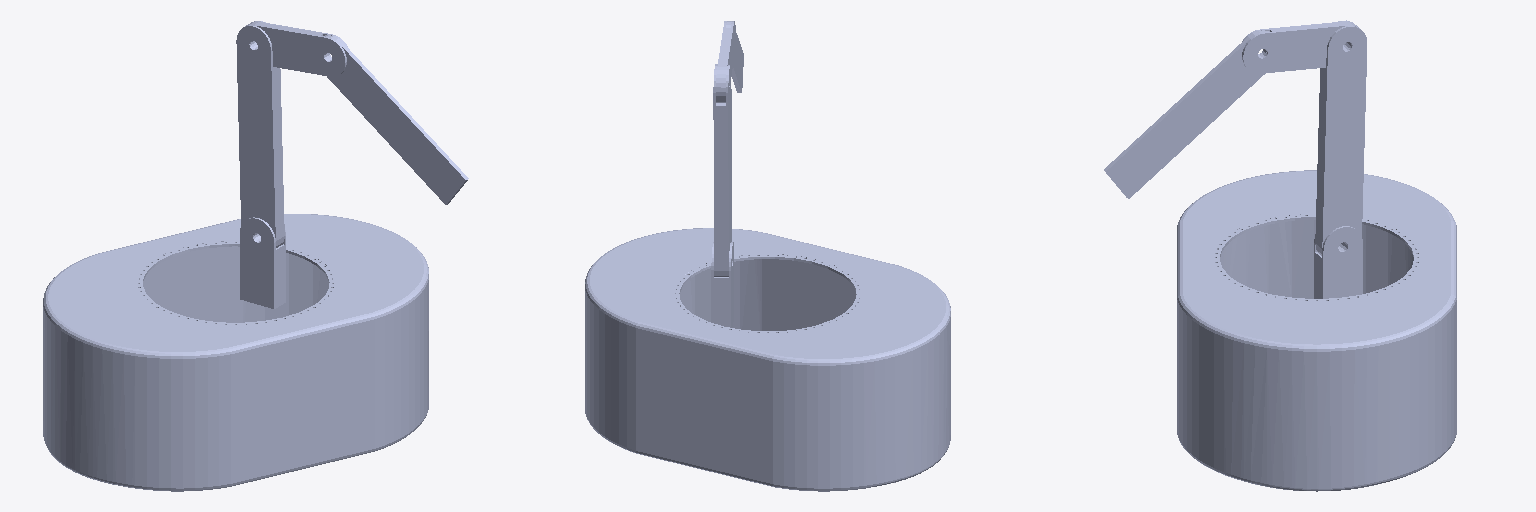
URDF robot description (fouraxisrobot_kine):
<?xml version="1.0" encoding="utf-8"?>
<robot
  name="fouraxisrobot_kine">
  <link
    name="base_link">
    <inertial>
      <origin
        xyz="2.7802E-36 0.012867 1.1428E-18"
        rpy="0 0 0" />
      <mass
        value="0.23562" />
      <inertia
        ixx="0.00017569"
        ixy="6.7763E-21"
        ixz="2.7105E-20"
        iyy="0.00031802"
        iyz="5.9354E-21"
        izz="0.00017569" />
    </inertial>
    <visual>
      <origin
        xyz="0 0 0"
        rpy="0 0 0" />
      <geometry>
        <mesh
          filename="package://cpp06_urdf/meshes/base_link.STL" />
      </geometry>
      <material
        name="">
        <color
          rgba="0.79216 0.81961 0.93333 1" />
      </material>
    </visual>
    <collision>
      <origin
        xyz="0 0 0"
        rpy="0 0 0" />
      <geometry>
        <mesh
          filename="package://cpp06_urdf/meshes/base_link.STL" />
      </geometry>
    </collision>
  </link>
  <link
    name="link1">
    <inertial>
      <origin
        xyz="0.065125 2.0116E-17 -2.2224E-17"
        rpy="0 0 0" />
      <mass
        value="0.39015" />
      <inertia
        ixx="0.00027739"
        ixy="8.0815E-20"
        ixz="8.0388E-20"
        iyy="0.00072264"
        iyz="2.7105E-20"
        izz="0.00087866" />
    </inertial>
    <visual>
      <origin
        xyz="0 0 0"
        rpy="0 0 0" />
      <geometry>
        <mesh
          filename="package://cpp06_urdf/meshes/link1.STL" />
      </geometry>
      <material
        name="">
        <color
          rgba="0.79216 0.81961 0.93333 1" />
      </material>
    </visual>
    <collision>
      <origin
        xyz="0 0 0"
        rpy="0 0 0" />
      <geometry>
        <mesh
          filename="package://cpp06_urdf/meshes/link1.STL" />
      </geometry>
    </collision>
  </link>
  <joint
    name="joint1"
    type="revolute">
    <origin
      xyz="0 0 0.03"
      rpy="0.4441 -1.5708 0" />
    <parent
      link="base_link" />
    <child
      link="link1" />
    <axis
      xyz="-1 0 0" />
    <limit
      lower="-3.14"
      upper="3.14"
      effort="100"
      velocity="1" />
  </joint>
  <link
    name="link2">
    <inertial>
      <origin
        xyz="0.18014 6.6787E-17 -1.5727E-16"
        rpy="0 0 0" />
      <mass
        value="0.99282" />
      <inertia
        ixx="0.00060396"
        ixy="-6.6331E-18"
        ixz="-1.6839E-18"
        iyy="0.014885"
        iyz="8.6736E-19"
        izz="0.015332" />
    </inertial>
    <visual>
      <origin
        xyz="0 0 0"
        rpy="0 0 0" />
      <geometry>
        <mesh
          filename="package://cpp06_urdf/meshes/link2.STL" />
      </geometry>
      <material
        name="">
        <color
          rgba="0.79216 0.81961 0.93333 1" />
      </material>
    </visual>
    <collision>
      <origin
        xyz="0 0 0"
        rpy="0 0 0" />
      <geometry>
        <mesh
          filename="package://cpp06_urdf/meshes/link2.STL" />
      </geometry>
    </collision>
  </link>
  <joint
    name="joint2"
    type="revolute">
    <origin
      xyz="0.14 0 0"
      rpy="-3.1416 0 0.02851" />
    <parent
      link="link1" />
    <child
      link="link2" />
    <axis
      xyz="0 0 -1" />
    <limit
      lower="-3.14"
      upper="3.14"
      effort="100"
      velocity="1" />
  </joint>
  <link
    name="link3">
    <inertial>
      <origin
        xyz="0.0720662695405814 -1.11022302462516E-16 3.85108611666851E-16"
        rpy="0 0 0" />
      <mass
        value="0.312359863114213" />
      <inertia
        ixx="0.000175816316923738"
        ixy="6.4205097401876E-19"
        ixz="2.03287907341032E-19"
        iyy="0.00121702131601706"
        iyz="-2.03287907341032E-20"
        izz="0.0013696334055072" />
    </inertial>
    <visual>
      <origin
        xyz="0 0 0"
        rpy="0 0 0" />
      <geometry>
        <mesh
          filename="package://cpp06_urdf/meshes/link3.STL" />
      </geometry>
      <material
        name="">
        <color
          rgba="0.792156862745098 0.819607843137255 0.933333333333333 1" />
      </material>
    </visual>
    <collision>
      <origin
        xyz="0 0 0"
        rpy="0 0 0" />
      <geometry>
        <mesh
          filename="package://cpp06_urdf/meshes/link3.STL" />
      </geometry>
    </collision>
  </link>
  <joint
    name="joint3"
    type="revolute">
    <origin
      xyz="0.4 0 0"
      rpy="0 0 1.494" />
    <parent
      link="link2" />
    <child
      link="link3" />
    <axis
      xyz="0 0 -1" />
    <limit
      lower="-3.14"
      upper="3.14"
      effort="100"
      velocity="1" />
  </joint>
  <link
    name="link4">
    <inertial>
      <origin
        xyz="-0.165854197997763 0 2.77555756156289E-16"
        rpy="0 0 0" />
      <mass
        value="0.309991148575129" />
      <inertia
        ixx="0.000166157816246607"
        ixy="1.09097843606354E-18"
        ixz="-2.57498015965307E-18"
        iyy="0.00392704064985496"
        iyz="5.42101086242752E-20"
        izz="0.00408803194695865" />
    </inertial>
    <visual>
      <origin
        xyz="0 0 0"
        rpy="0 0 0" />
      <geometry>
        <mesh
          filename="package://cpp06_urdf/meshes/link4.STL" />
      </geometry>
      <material
        name="">
        <color
          rgba="0.792156862745098 0.819607843137255 0.933333333333333 1" />
      </material>
    </visual>
    <collision>
      <origin
        xyz="0 0 0"
        rpy="0 0 0" />
      <geometry>
        <mesh
          filename="package://cpp06_urdf/meshes/link4.STL" />
      </geometry>
    </collision>
  </link>
  <joint
    name="joint4"
    type="revolute">
    <origin
      xyz="0.17 0 0"
      rpy="0 0 -2.4139" />
    <parent
      link="link3" />
    <child
      link="link4" />
    <axis
      xyz="0 0 -1" />
    <limit
      lower="-3.14"
      upper="3.14"
      effort="100"
      velocity="1" />
  </joint>
</robot>

--- Facts derived from the render (not from the file) ---
3 views of the same robot in one strip: view 1: azimuth 30°, elevation 25°; view 2: azimuth 150°, elevation 25°; view 3: azimuth 270°, elevation 25° (orthographic).
Robot: fouraxisrobot_kine — 5 links, 4 joints (4 revolute); root link base_link; default pose: every joint at zero.
Visible links, largest first — view 1: base_link, link2, link4, link1, link3; view 2: base_link, link2, link1, link3; view 3: base_link, link2, link4, link3, link1.
Link boxes in pixels (bbox=[...]): base_link: bbox=[43, 214, 428, 491]; link2: bbox=[236, 21, 284, 247]; link4: bbox=[325, 35, 468, 204]; link1: bbox=[240, 217, 285, 308]; link3: bbox=[246, 21, 347, 76]; base_link: bbox=[585, 228, 950, 491]; link2: bbox=[713, 64, 731, 276]; link1: bbox=[711, 242, 733, 327]; link3: bbox=[716, 21, 735, 102]; base_link: bbox=[1177, 170, 1456, 491]; link2: bbox=[1315, 20, 1366, 255]; link4: bbox=[1104, 30, 1269, 198]; link3: bbox=[1242, 21, 1358, 73]; link1: bbox=[1314, 226, 1362, 298].
Bounding box of the posed robot: 0.7716 × 0.6455 × 0.8178 m (x, y, z).
Meshes: 5 distinct files referenced, 5 mesh visuals loaded (5 binary STL).
